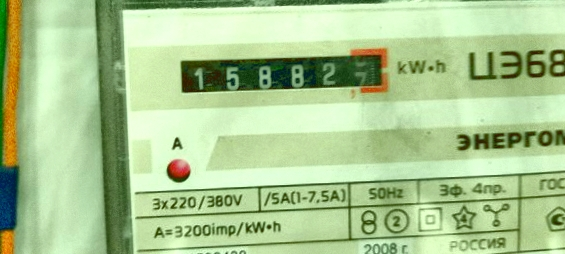1: (193, 62, 206, 92)
2: (320, 60, 337, 87)
5: (224, 64, 241, 94)
7: (353, 69, 366, 86)
8: (256, 63, 272, 91), (289, 61, 305, 89)
screen: (168, 39, 396, 105)
